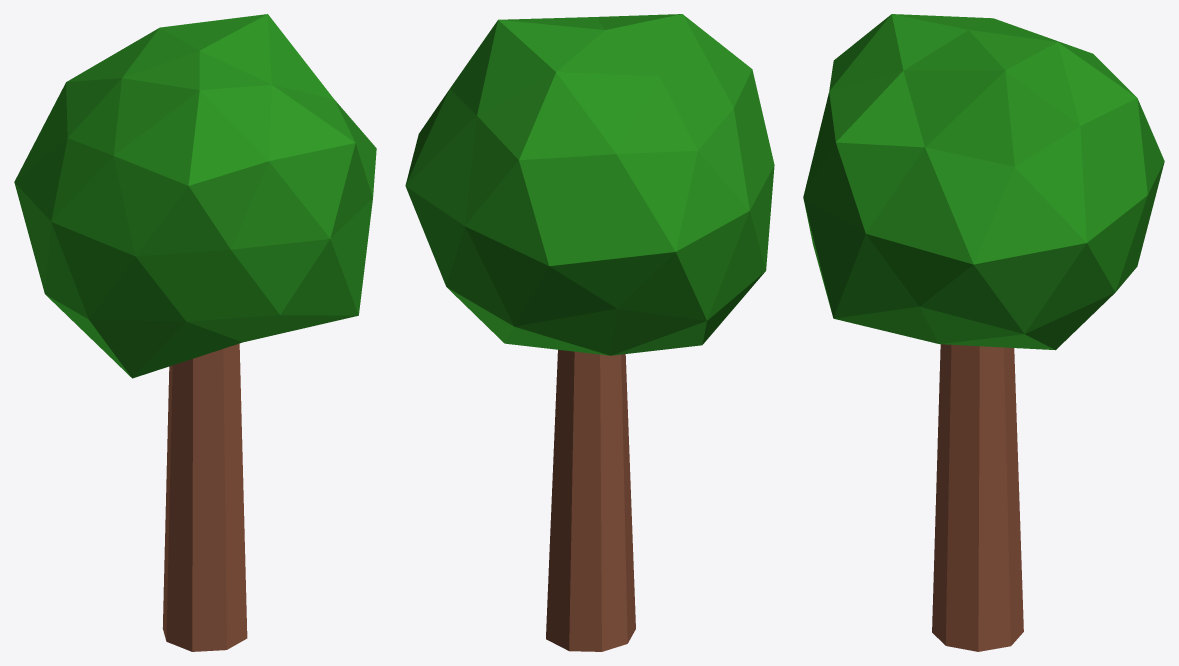
The model's file is Tree_04_summer_pal.fbx.
3 views of the same model, side by side, from view 1: azimuth 30°, elevation 25°; view 2: azimuth 150°, elevation 25°; view 3: azimuth 270°, elevation 25° (orthographic). The views are drawn at different scales.
Visible parts, largest first — view 1: Tree_04_summer_pal; view 2: Tree_04_summer_pal; view 3: Tree_04_summer_pal.
Part boxes in pixels (x1,y1,x2,y2): Tree_04_summer_pal: (14,14,376,651); Tree_04_summer_pal: (405,14,774,651); Tree_04_summer_pal: (803,14,1164,651).
Size of the model in its own units: 111 by 193 by 105.
